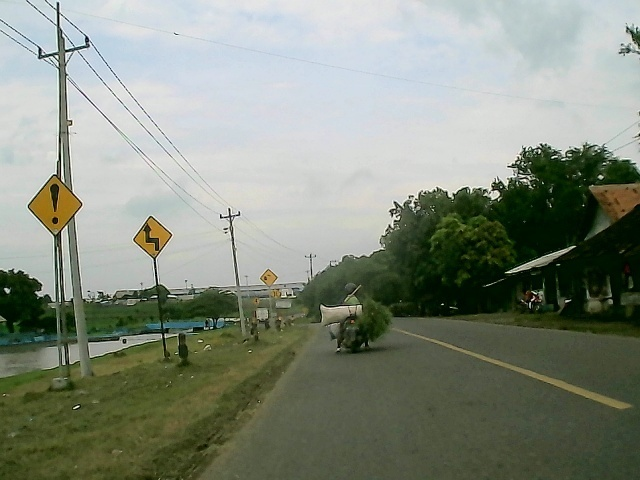Hati-hati: (24, 174, 86, 238)
Tikungan garda pertama kiri: (129, 213, 174, 262)
